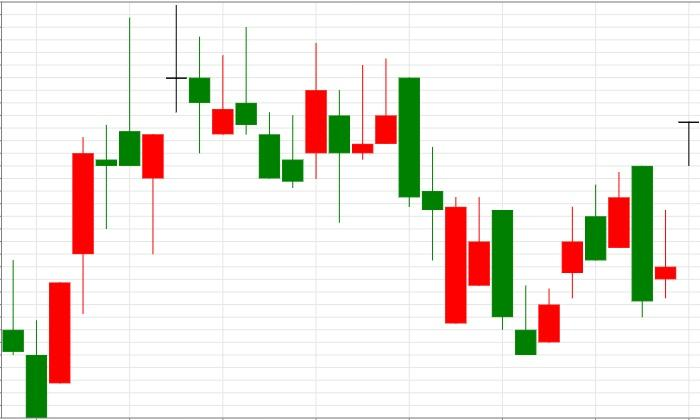bearish_engulfing_fall: (516, 165, 653, 356)
inverse_hammer_rise: (399, 77, 537, 355)
shooting_star_fall: (48, 18, 141, 383)
